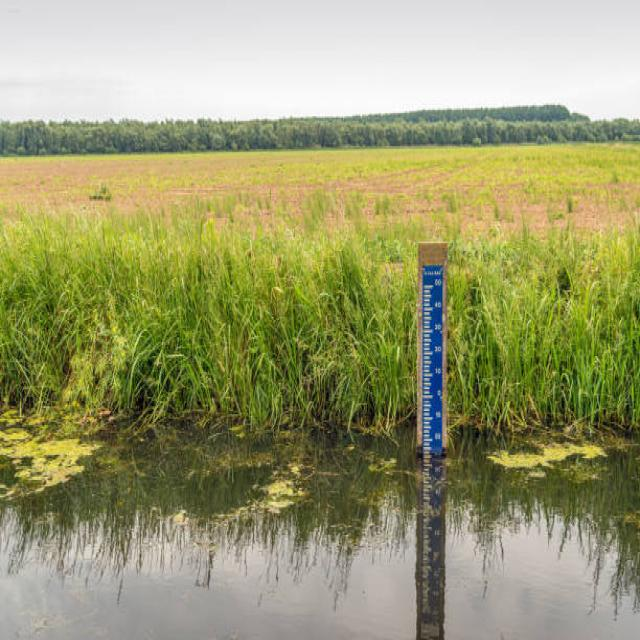staff: (420, 273, 444, 477)
